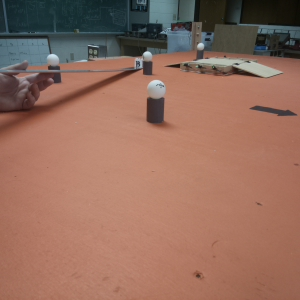blockB: (133, 57, 142, 69)
corner: (190, 20, 204, 41)
obstacle: (146, 81, 165, 124), (44, 53, 61, 70), (143, 50, 153, 75), (196, 43, 205, 57)
side: (180, 61, 229, 78)
slope: (231, 60, 283, 78)
start: (245, 102, 299, 121)
